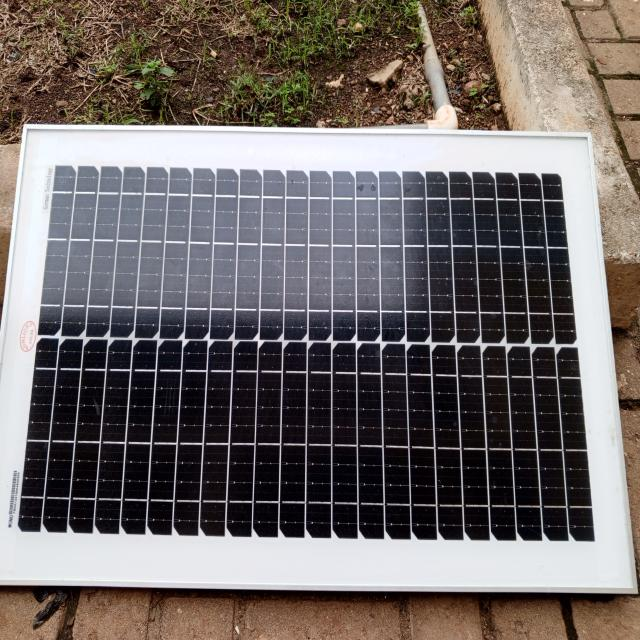Clean: (34, 153, 606, 549)
